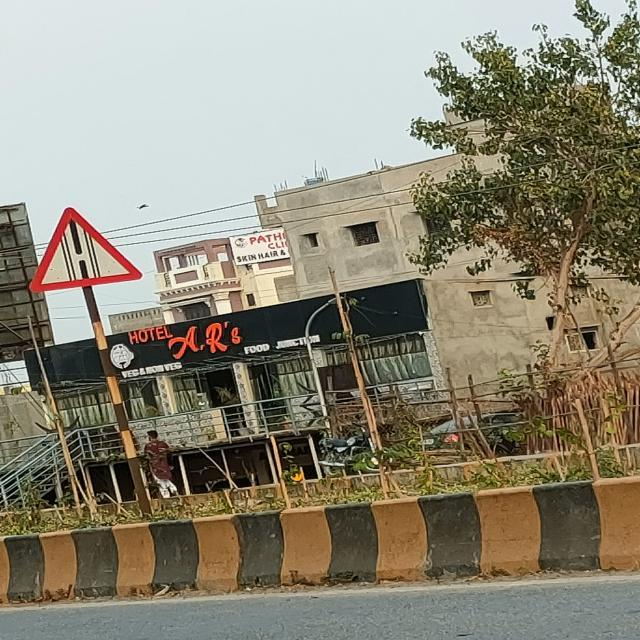gap in median: (22, 205, 149, 295)
